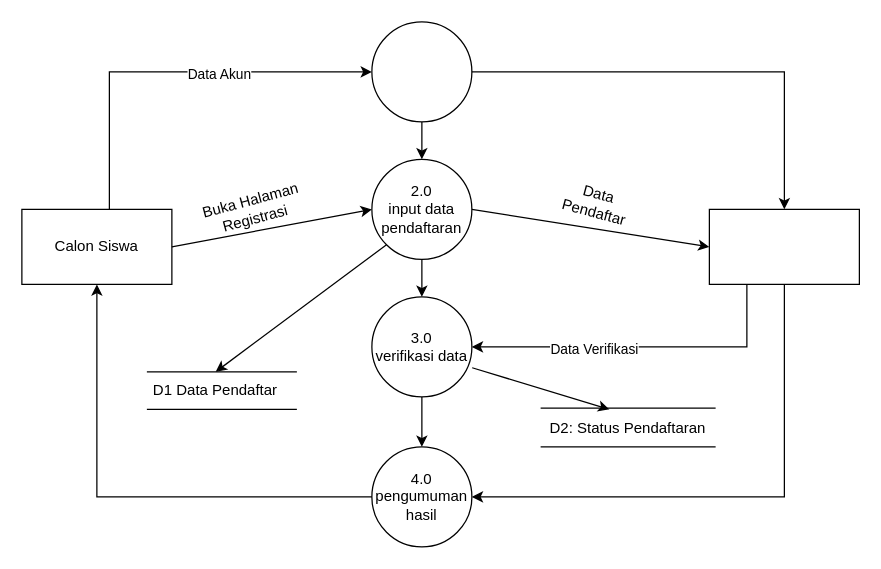
Some shapes in this 881 by 569 pixel diagram are drawn without their labels. Here are the shapes that lost their labels. From the top down, the centre of each, then its label:
At point (421, 71): "1.0 pendaftaran akun".
At point (783, 246): "Panitia".
